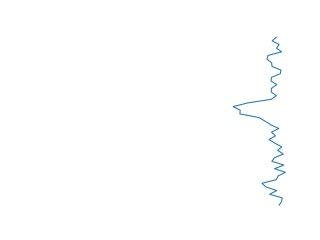interdistributaryEstuary: (229, 36, 293, 204)
